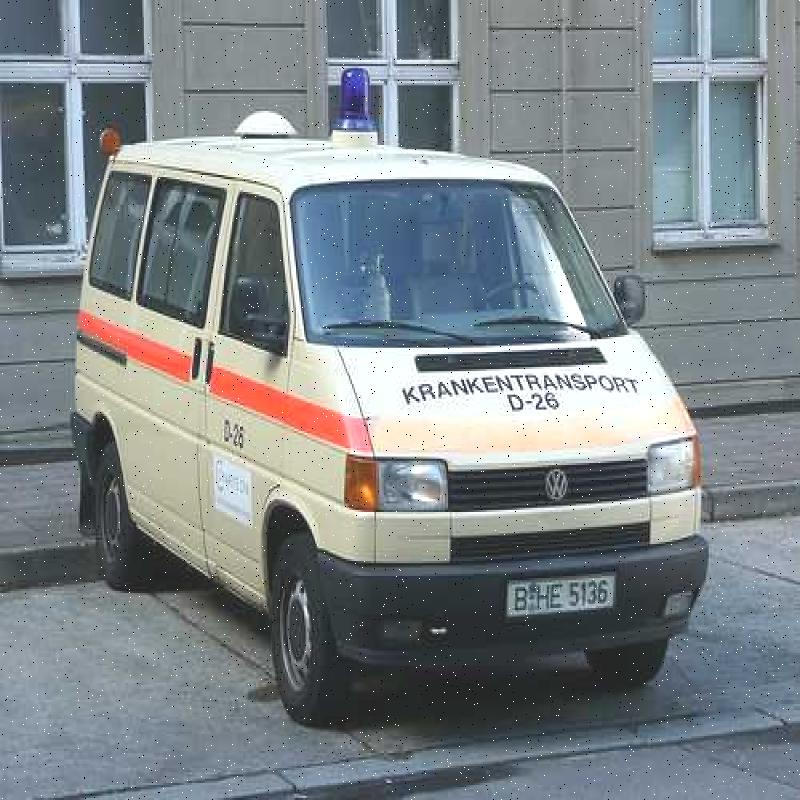AmbulanceSiren: (312, 39, 399, 169)
ambulance: (93, 110, 661, 700)
